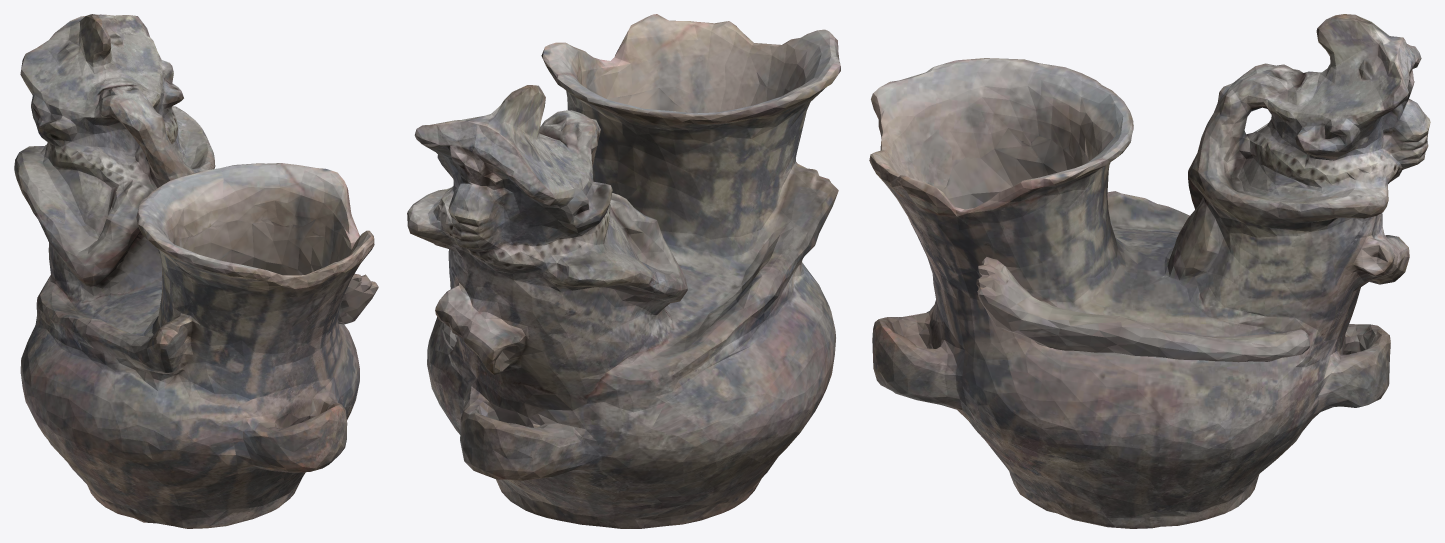
3 renders of one model, left to right at view 1: azimuth 30°, elevation 25°; view 2: azimuth 150°, elevation 25°; view 3: azimuth 270°, elevation 25°, orthographic. The views are drawn at different scales.
Parts seen in each view (by area): view 1: MA10241; view 2: MA10241; view 3: MA10241.
Boxes of the visible parts, left/top/right/bottom form: MA10241: left=14, top=14, right=378, bottom=528; MA10241: left=407, top=14, right=840, bottom=528; MA10241: left=869, top=14, right=1430, bottom=528.
Bounding box in the file's own units: 3.89 × 5.12 × 5.66.
Materials: 1 (1 with a texture image).
